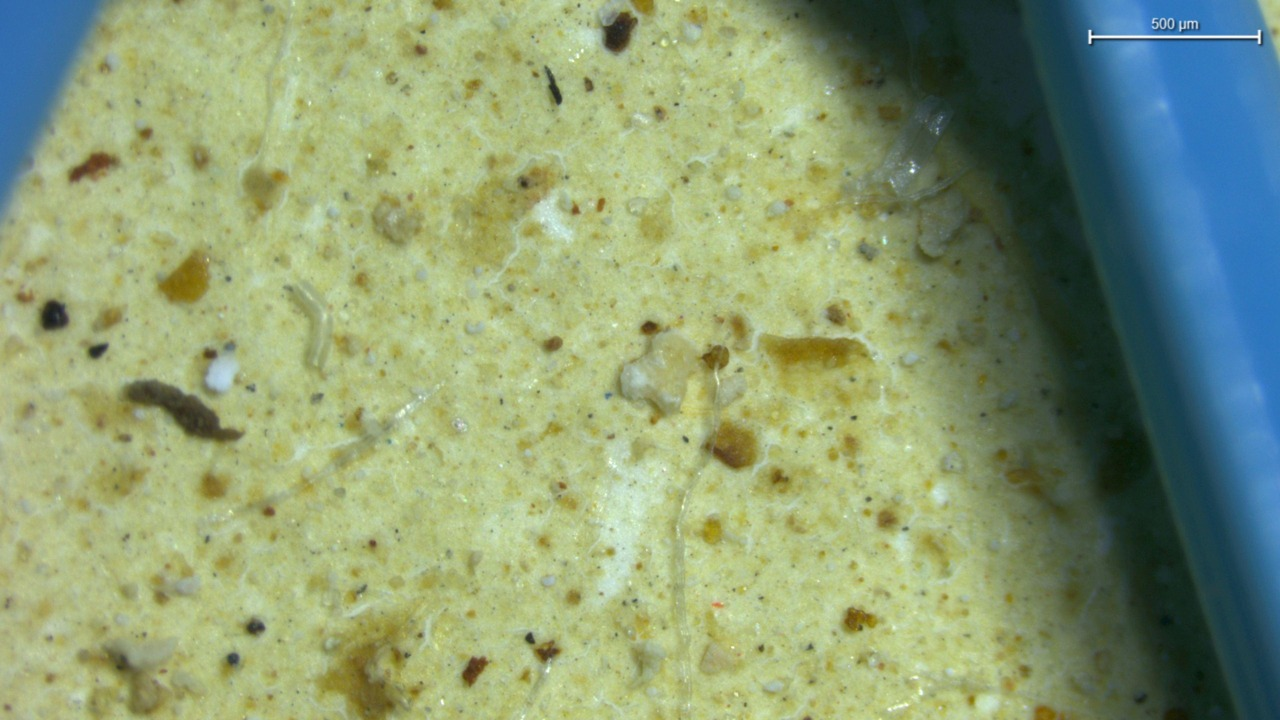microplastic_fragment: (621, 331, 692, 415), (918, 189, 970, 258), (205, 356, 239, 393)
